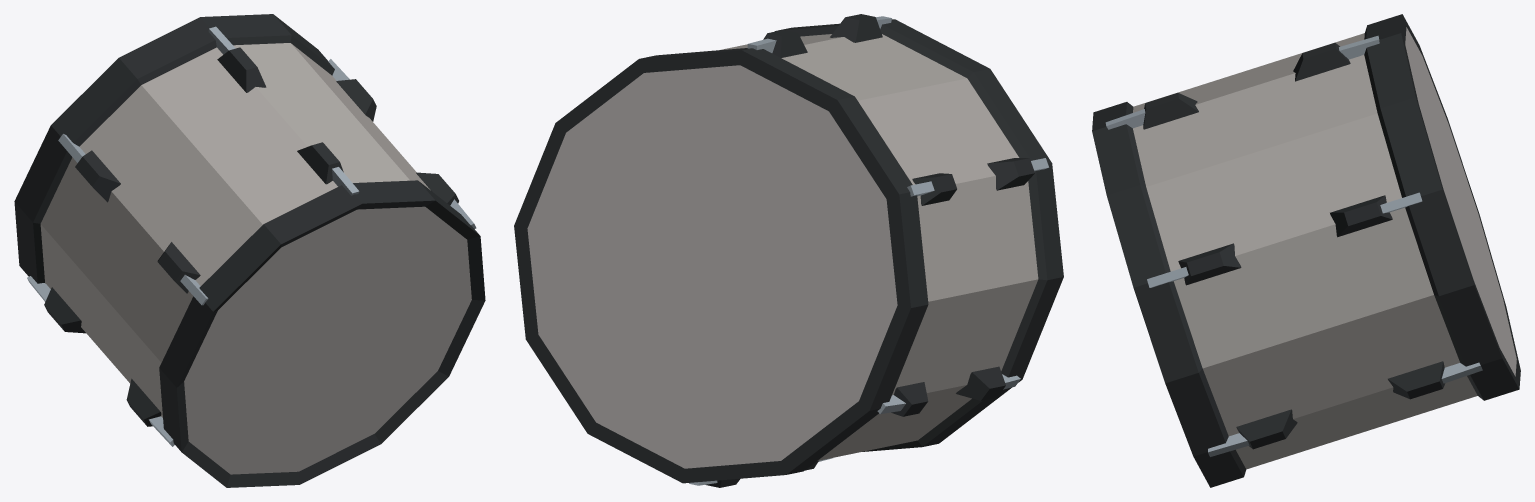
The model's file is SM_Prop_Music_Drums_Kit_01_Seat_01_Part_01.113.obj.
3 renders of one model, left to right at view 1: azimuth 30°, elevation 25°; view 2: azimuth 150°, elevation 25°; view 3: azimuth 270°, elevation 25°, orthographic. The views are drawn at different scales.
Visible parts, largest first — view 1: SM_Prop_Music_Drums_Kit_01_Seat_01_Part_01.113_0; view 2: SM_Prop_Music_Drums_Kit_01_Seat_01_Part_01.113_0; view 3: SM_Prop_Music_Drums_Kit_01_Seat_01_Part_01.113_0.
Boxes of the visible parts, box(x1,y1,x2,y2) form: SM_Prop_Music_Drums_Kit_01_Seat_01_Part_01.113_0: box(14, 14, 485, 487); SM_Prop_Music_Drums_Kit_01_Seat_01_Part_01.113_0: box(514, 14, 1063, 487); SM_Prop_Music_Drums_Kit_01_Seat_01_Part_01.113_0: box(1092, 14, 1520, 487).
Bounding box in the file's own units: 45.44 × 52.04 × 46.98.
